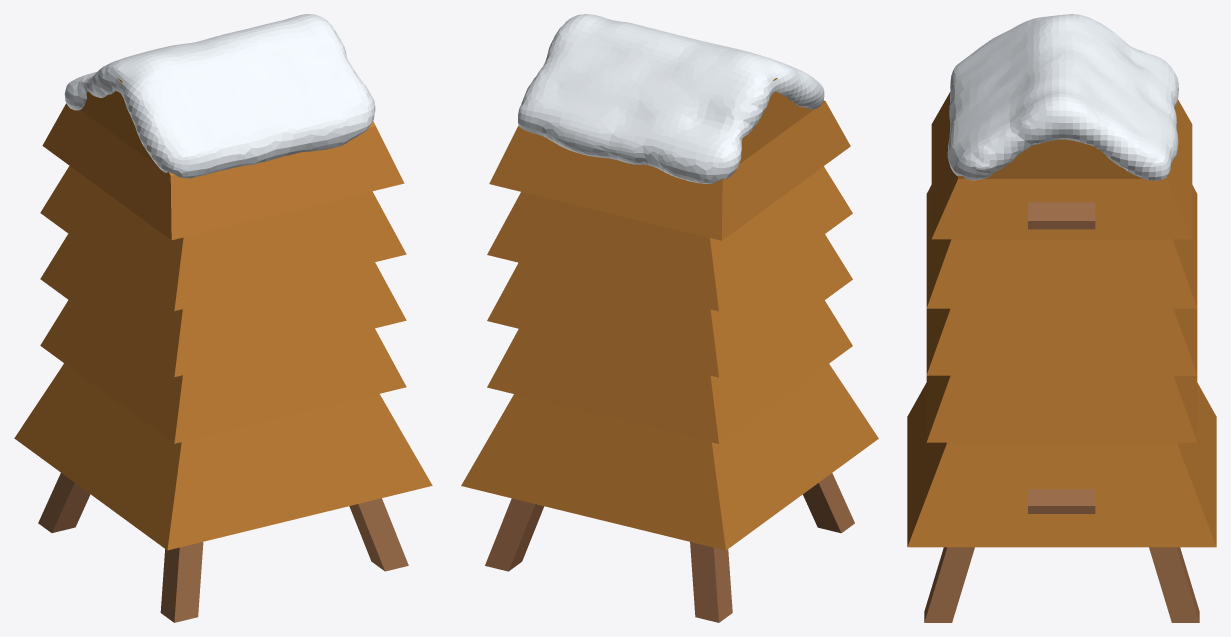
The model's file is compost_bin.fbx.
3 views of the same model, side by side, from view 1: azimuth 30°, elevation 25°; view 2: azimuth 150°, elevation 25°; view 3: azimuth 270°, elevation 25° (orthographic).
Visible parts, largest first — view 1: Meio, Fundac, SnowBall.001, Topo; view 2: Meio, Fundac, SnowBall.001, Topo; view 3: Meio, Fundac, SnowBall.001, Topo, Cube, Dets.
Part boxes in pixels (x1,y1,x2,y2): Meio: (40,166,406,443); Fundac: (14,363,432,622); SnowBall.001: (64,14,375,178); Topo: (42,78,404,240); Meio: (487,166,852,443); Fundac: (461,364,878,622); SnowBall.001: (518,14,824,183); Topo: (489,78,850,240); Meio: (926,185,1197,442); Fundac: (907,383,1216,622); SnowBall.001: (947,14,1178,180); Topo: (931,92,1192,239); Cube: (1028,202,1095,229); Dets: (1028,489,1095,513).
Size of the model in its own units: 142 by 258 by 141.
Materials: 3 (2 with a texture image).
